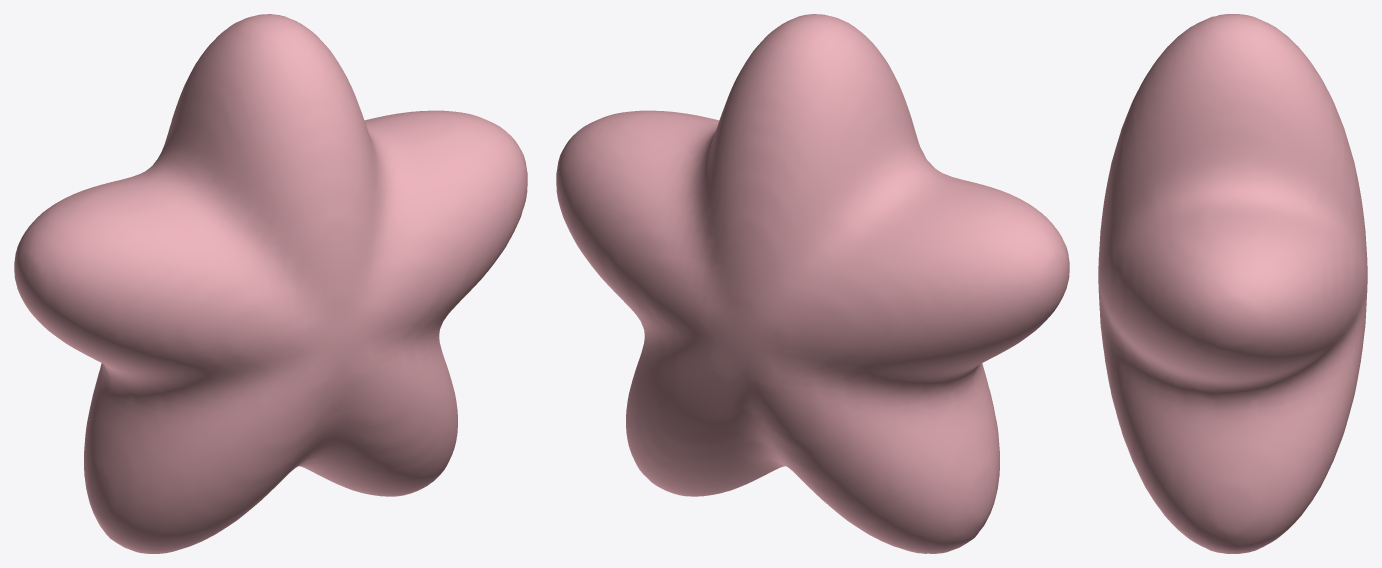
File: squishy-star.glb
The picture shows the model from 3 angles, left to right: view 1: azimuth 30°, elevation 25°; view 2: azimuth 150°, elevation 25°; view 3: azimuth 270°, elevation 25°; orthographic projection. The views are drawn at different scales.
Visible parts, largest first — view 1: Squishy_Surface; view 2: Squishy_Surface; view 3: Squishy_Surface.
Boxes of the visible parts, box(x1,y1,x2,y2) form: Squishy_Surface: box(14, 14, 527, 553); Squishy_Surface: box(556, 14, 1069, 553); Squishy_Surface: box(1098, 14, 1367, 553).
Size of the model in its own units: 2.21 by 2.12 by 1.1.
